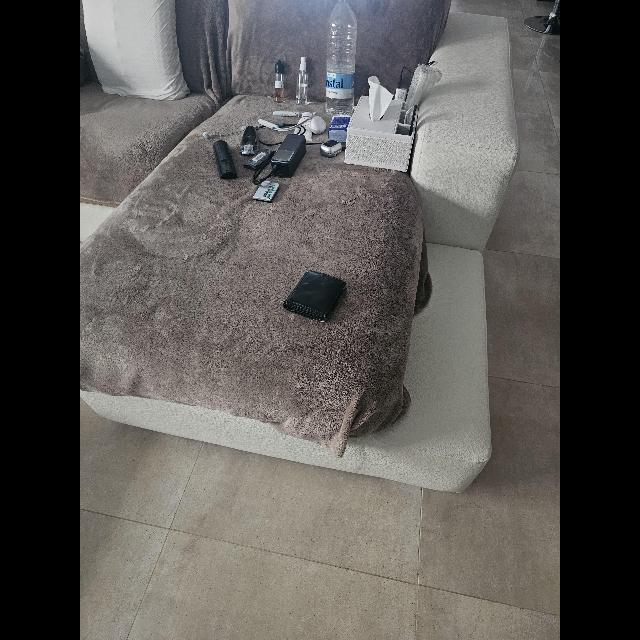Wallet: (282, 268, 348, 322)
